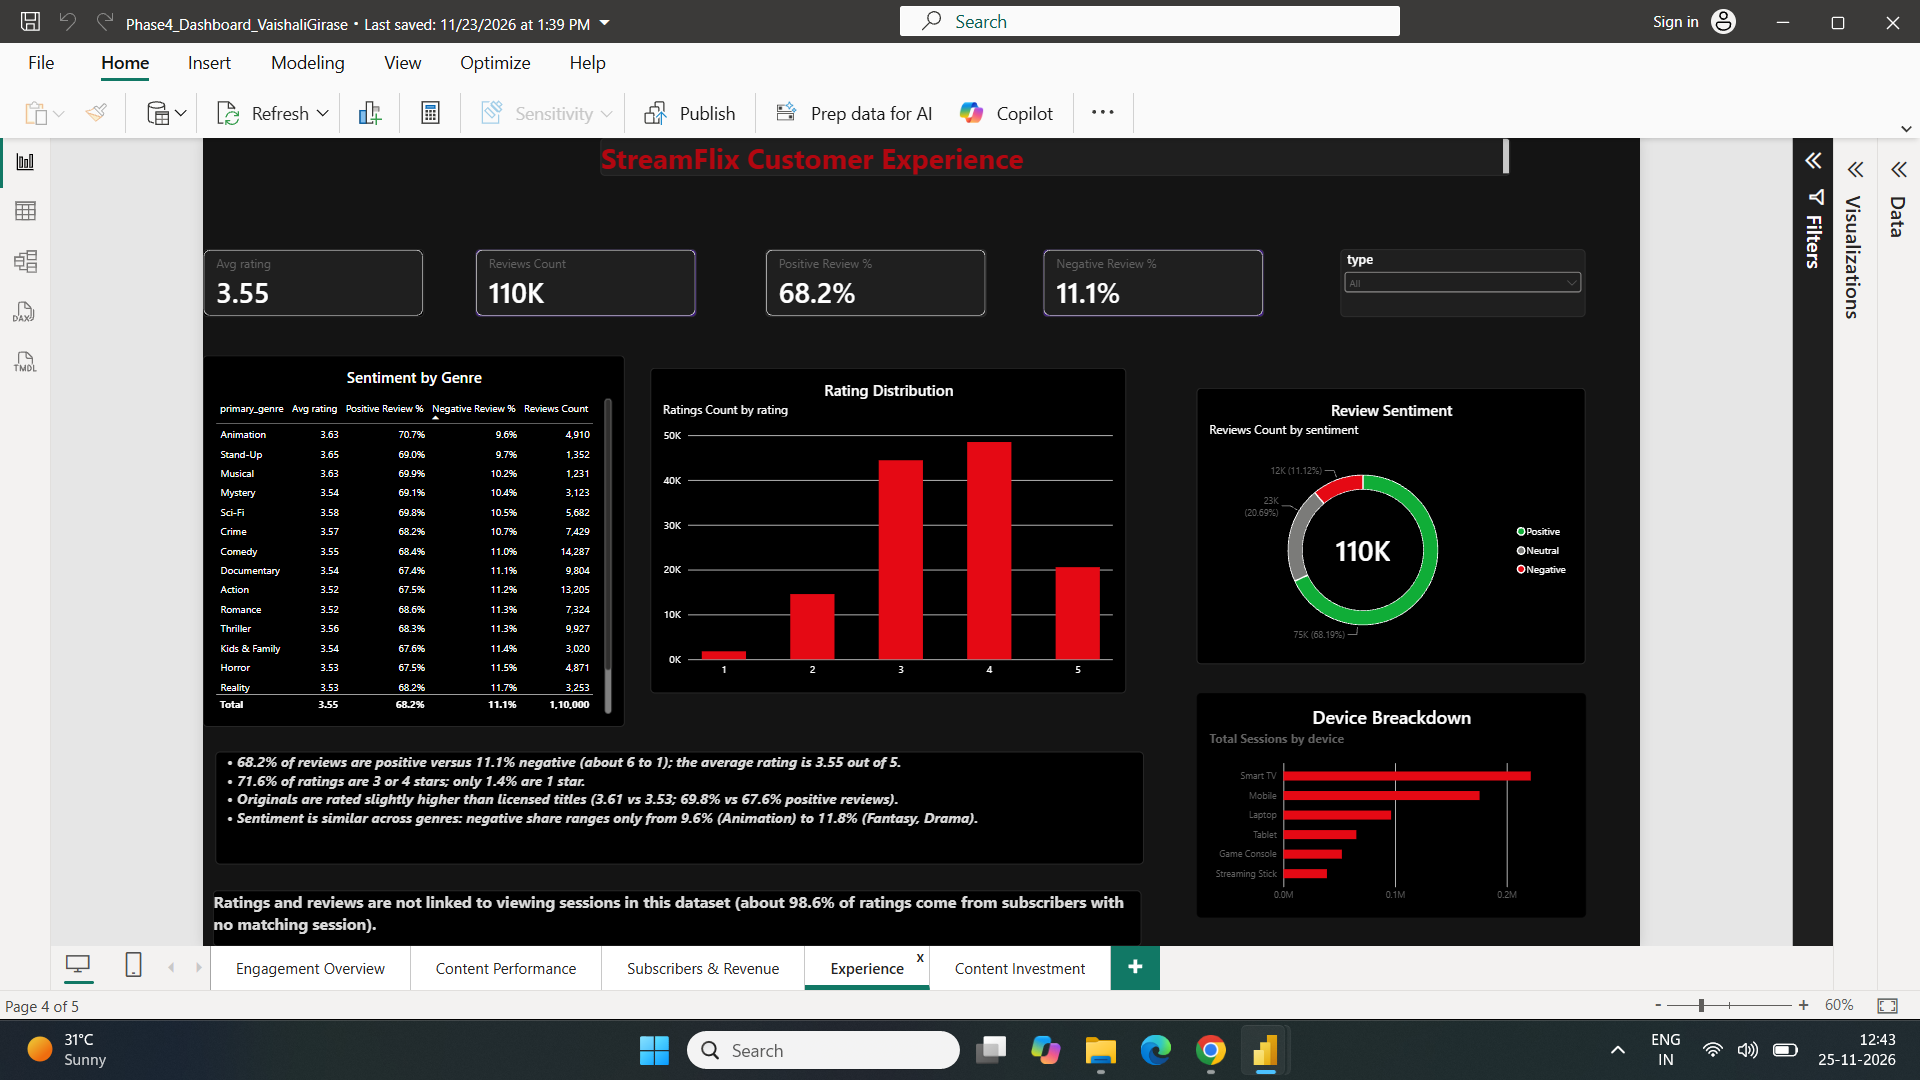

The page's visual inventory and layout, read from the dashboard file:
{"tool":"powerbi","page":{"name":"Experience","canvas":[1920,1080],"ordinal":3},"visuals":[{"type":"cardVisual","fields":{"Data":["fact_reviews.Avg rating"]},"box":[0,148.3,295,90],"z":0},{"type":"cardVisual","fields":{"Data":["fact_reviews.Reviews Count"]},"box":[363.3,148.3,295,90],"z":1000},{"type":"cardVisual","fields":{"Data":["fact_reviews.Positive Review %"]},"box":[751.7,148.3,295,90],"z":2000},{"type":"cardVisual","fields":{"Data":["fact_reviews.Negative Review %"]},"box":[1122,148.4,295,90],"z":3000},{"type":"donutChart","title":"Review Sentiment","fields":{"Category":["fact_reviews.sentiment"],"Y":["fact_reviews.Reviews Count"]},"box":[1328.3,334.8,519.4,369.2],"z":4000},{"type":"columnChart","title":"Rating Distribution","fields":{"Category":["fact_ratings.rating"],"Y":["fact_reviews.Ratings Count"]},"box":[597.2,307.6,635.2,434.3],"z":5000},{"type":"tableEx","title":"Sentiment by Genre","fields":{"Values":["dim_titles.primary_genre","fact_reviews.Avg rating","fact_reviews.Positive Review %","fact_reviews.Negative Review %","fact_reviews.Reviews Count"]},"box":[0,291.4,562.8,495.8],"z":6000},{"type":"textbox","box":[16.3,819.8,1240,150],"z":7000},{"type":"textbox","box":[530.2,0,1215,50],"z":8000},{"type":"textbox","box":[14,1006,1240,74],"z":9000},{"type":"clusteredBarChart","title":"Device Breackdown","fields":{"Category":["fact_watch.device"],"Y":["fact_watch.Total Sessions"]},"box":[1328.3,742,520,300],"z":10000},{"type":"slicer","fields":{"Values":["dim_titles.type"]},"box":[1520.1,148.4,327.5,90.5],"z":10001}]}

Visuals, with their boxes on the page's 1920x1080 design canvas (x1, y1, x2, y2). These are canvas units, not pixel positions in the 1920x1080 screenshot, which may show the page scaled, cropped or inside an application window:
cardVisual - fact_reviews.Avg rating: (0, 148, 295, 238)
cardVisual - fact_reviews.Reviews Count: (363, 148, 658, 238)
cardVisual - fact_reviews.Positive Review %: (752, 148, 1047, 238)
cardVisual - fact_reviews.Negative Review %: (1122, 148, 1417, 238)
"Review Sentiment" donutChart: (1328, 335, 1848, 704)
"Rating Distribution" columnChart: (597, 308, 1232, 742)
"Sentiment by Genre" tableEx: (0, 291, 563, 787)
textbox: (16, 820, 1256, 970)
textbox: (530, 0, 1745, 50)
textbox: (14, 1006, 1254, 1080)
"Device Breackdown" clusteredBarChart: (1328, 742, 1848, 1042)
slicer - dim_titles.type: (1520, 148, 1848, 239)
